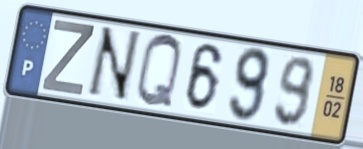6: (181, 42, 226, 115)
9: (225, 44, 271, 126), (271, 54, 317, 129)
N: (82, 24, 144, 105)
Q: (134, 31, 185, 112)
Z: (39, 17, 97, 99)
